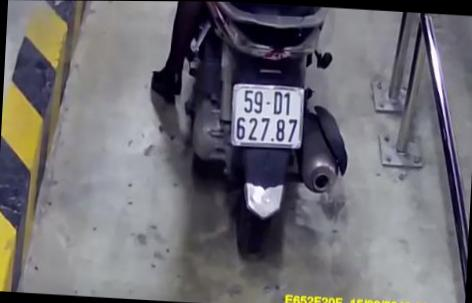LP: (229, 82, 305, 150)
